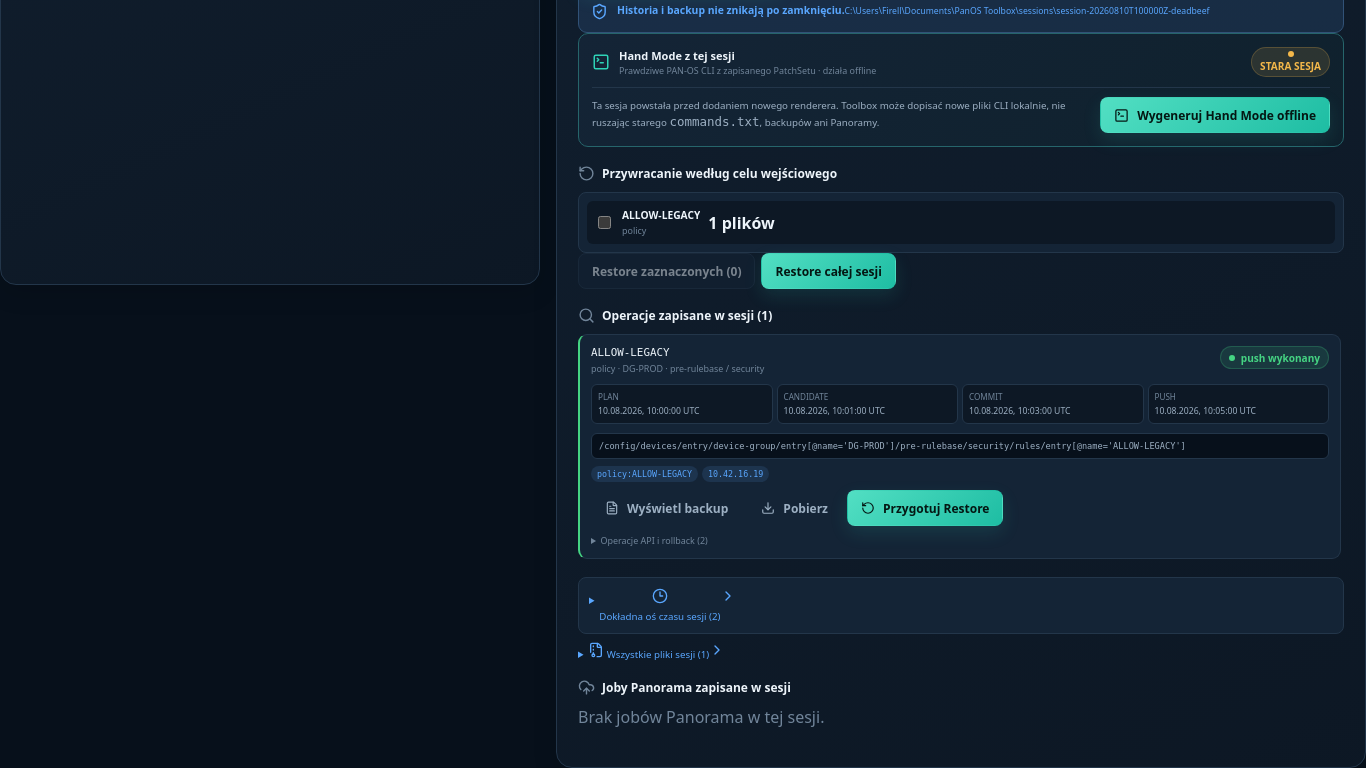
Test: offline session history › wyświetla konkretny backup bez połączenia z Panorama
(page scrolled)
Click the button "Wyświetl backup". click: [667, 508]
box: [591,490,742,526]
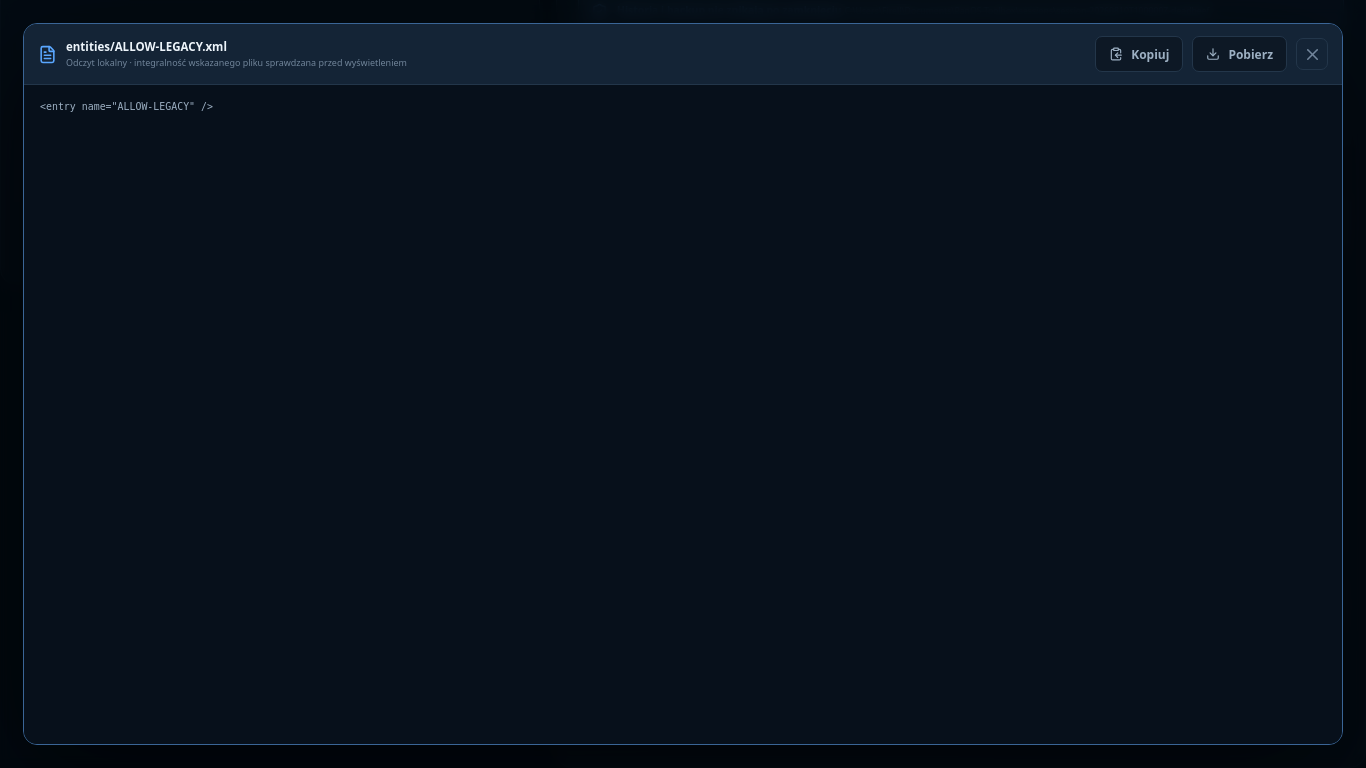
Result: the text "<entry name=\"ALLOW-LEGACY\" />" is shown
